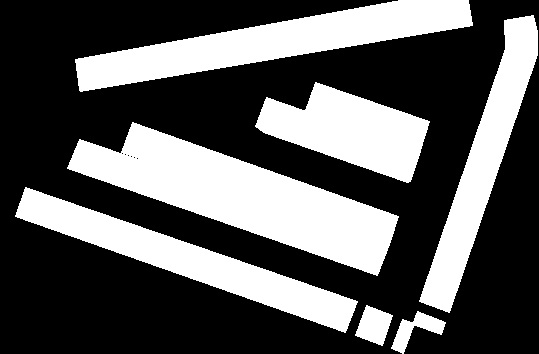parkingspot: (15, 187, 357, 332), (67, 139, 389, 275), (75, 0, 472, 91), (419, 15, 537, 312), (121, 122, 398, 244), (255, 97, 420, 182), (304, 82, 429, 153), (355, 305, 392, 345), (391, 319, 414, 353), (412, 311, 445, 334)
